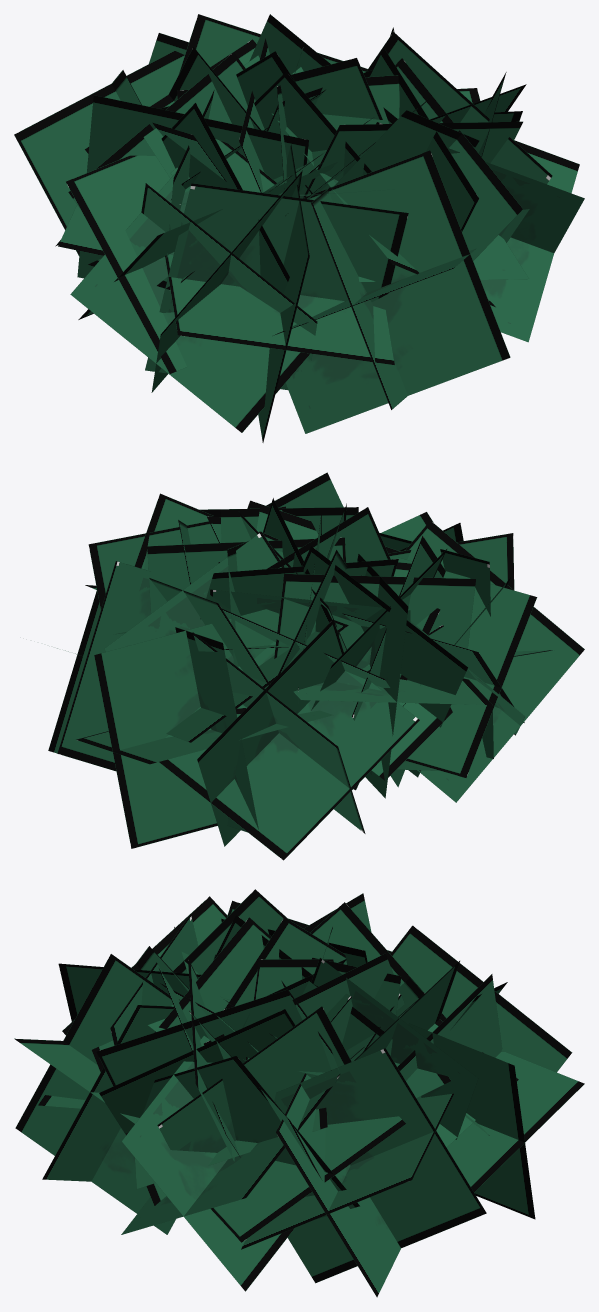
Rendered from base_bush1.fbx.
3 views of the same model, one above another, from view 1: azimuth 30°, elevation 25°; view 2: azimuth 150°, elevation 25°; view 3: azimuth 270°, elevation 25° (orthographic). The views are drawn at different scales.
Parts seen in each view (by area): view 1: Basic_Bush1; view 2: Basic_Bush1; view 3: Basic_Bush1.
Boxes of the visible parts, x1,y1,x2,y2 form: Basic_Bush1: (14,14,584,442); Basic_Bush1: (48,472,584,860); Basic_Bush1: (14,889,584,1297).
Size of the model in its own units: 194 by 123 by 209.
